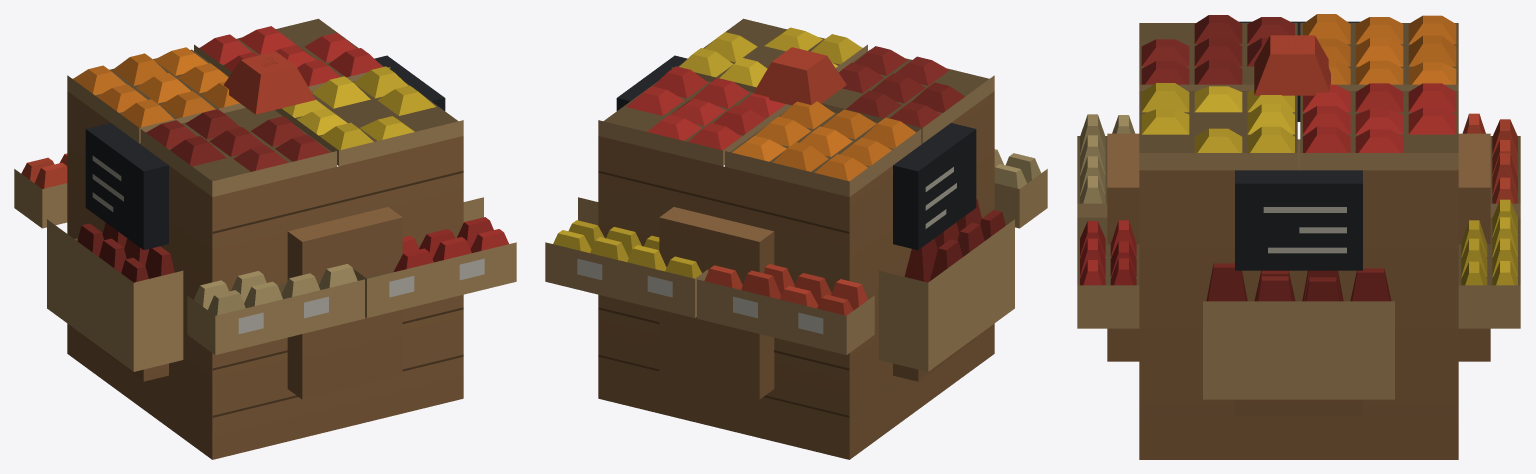
Rendered from shop.produce_stand.mixed.glb.
The picture shows the model from 3 angles, left to right: view 1: azimuth 30°, elevation 25°; view 2: azimuth 150°, elevation 25°; view 3: azimuth 270°, elevation 25°; orthographic projection. The views are drawn at different scales.
Parts seen in each view (by area): view 1: shop_produce_stand_mixed; view 2: shop_produce_stand_mixed; view 3: shop_produce_stand_mixed.
Part boxes in pixels (left/top/right/bottom): shop_produce_stand_mixed: left=14, top=18, right=516, bottom=459; shop_produce_stand_mixed: left=545, top=18, right=1047, bottom=459; shop_produce_stand_mixed: left=1077, top=14, right=1520, bottom=459.
Size of what is drawn, in the model's own units: 1.39 by 1.2 by 1.39.
